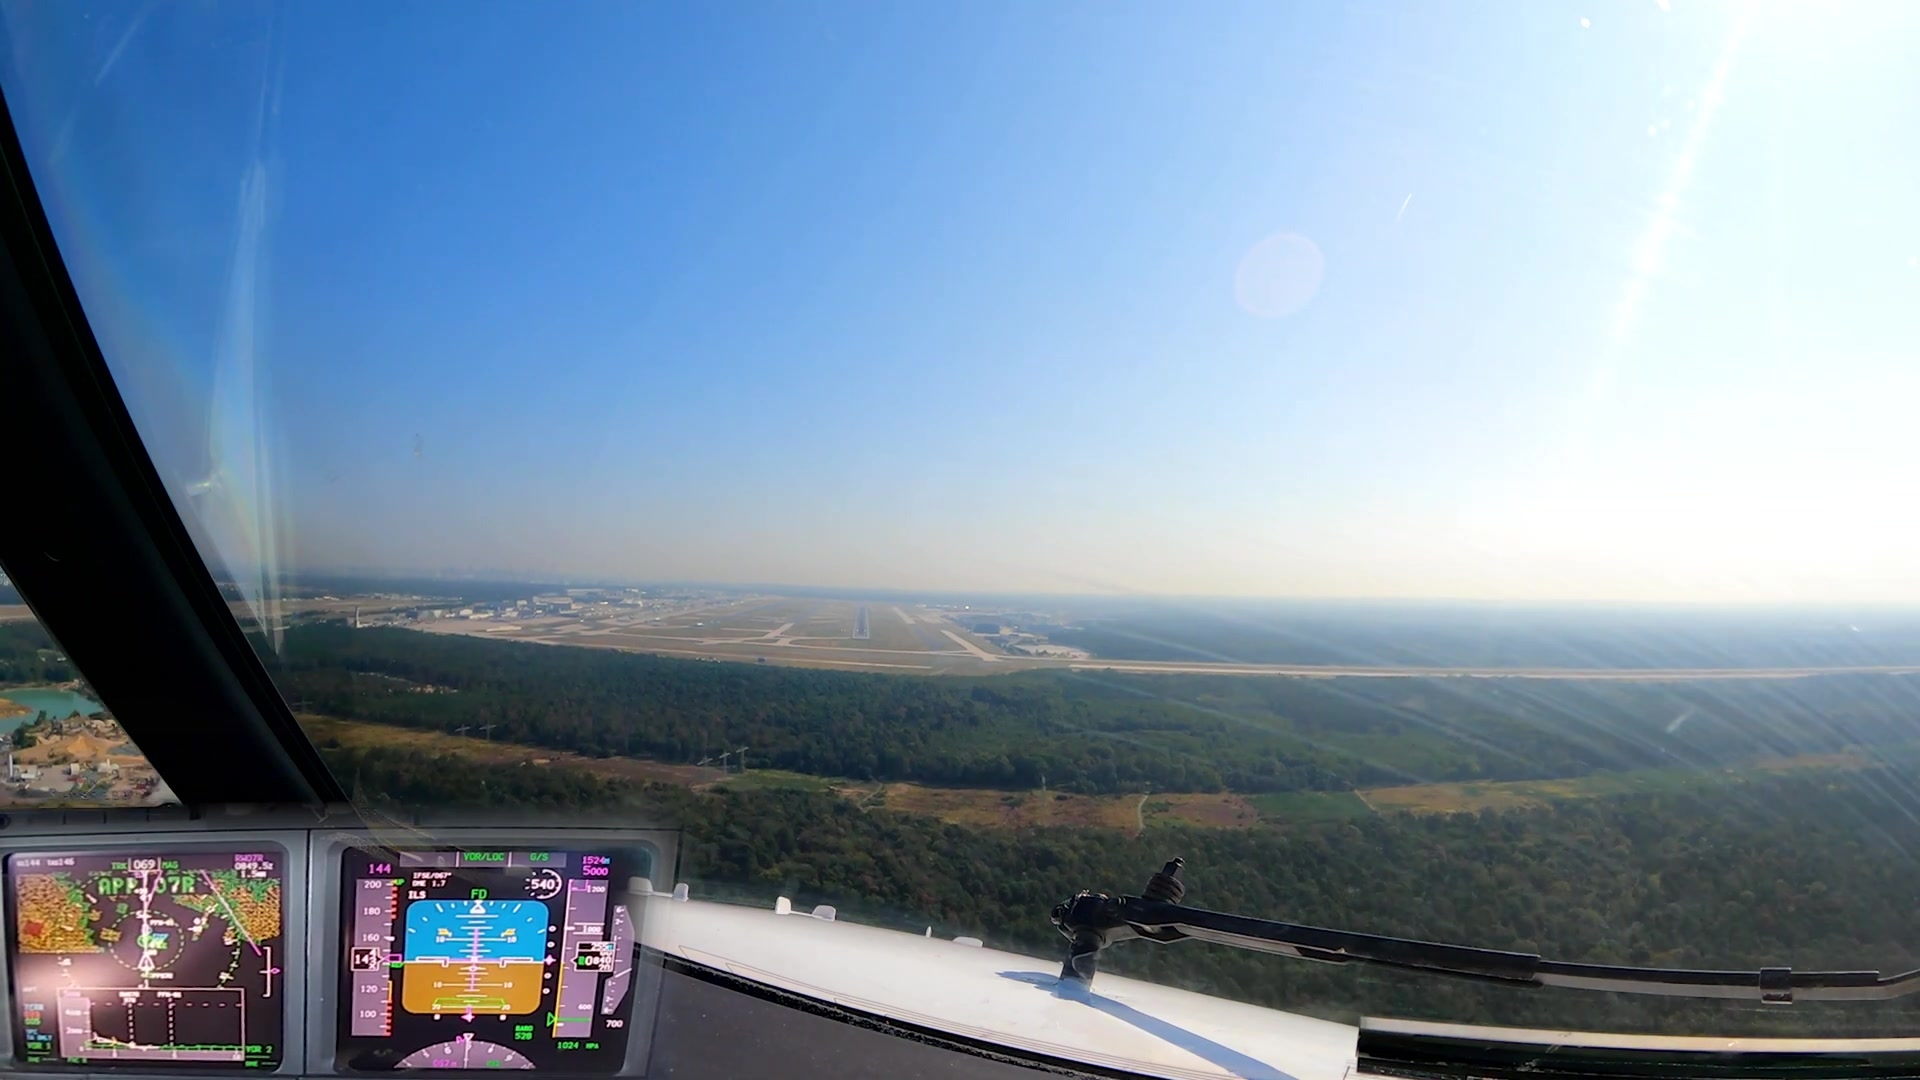runway: (851, 607, 872, 641)
